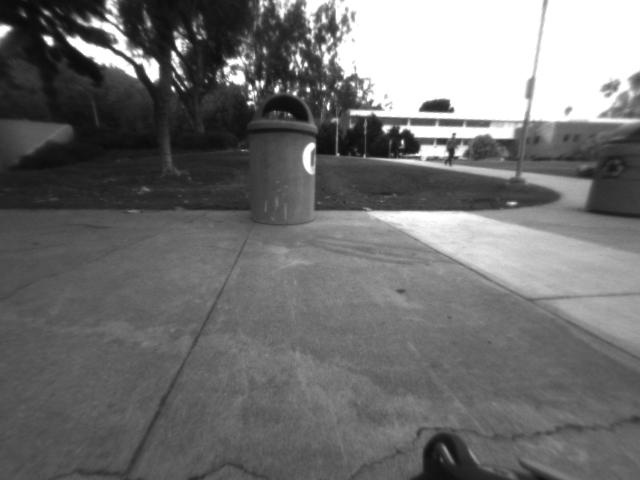trashcan: (242, 94, 327, 234)
